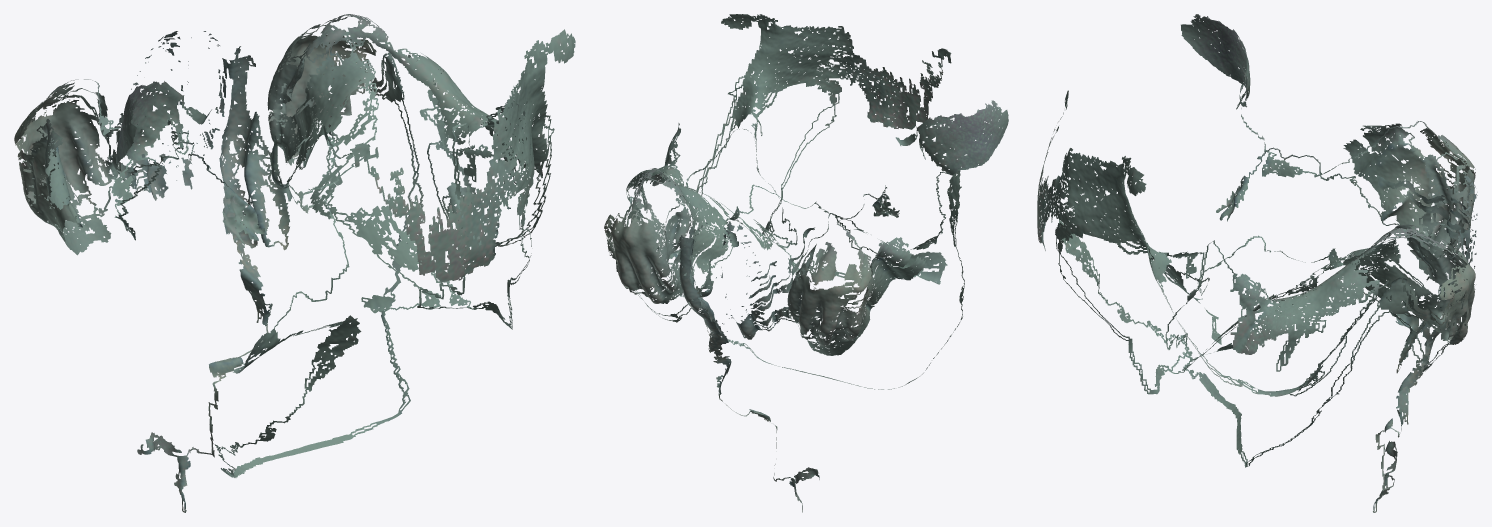
Rendered from cthulhu17_material_0.001_lev1.glb.
3 renders of one model, left to right at view 1: azimuth 30°, elevation 25°; view 2: azimuth 150°, elevation 25°; view 3: azimuth 270°, elevation 25°, orthographic. The views are drawn at different scales.
Visible parts, largest first — view 1: cthulhu17_material_0.001_lev1; view 2: cthulhu17_material_0.001_lev1; view 3: cthulhu17_material_0.001_lev1.
Part boxes in pixels (box(x1,y1,x2,y2)): cthulhu17_material_0.001_lev1: box(14, 14, 575, 512); cthulhu17_material_0.001_lev1: box(604, 14, 1008, 512); cthulhu17_material_0.001_lev1: box(1037, 14, 1477, 512).
Bounding box in the file's own units: 2.69 × 3.04 × 2.77.
